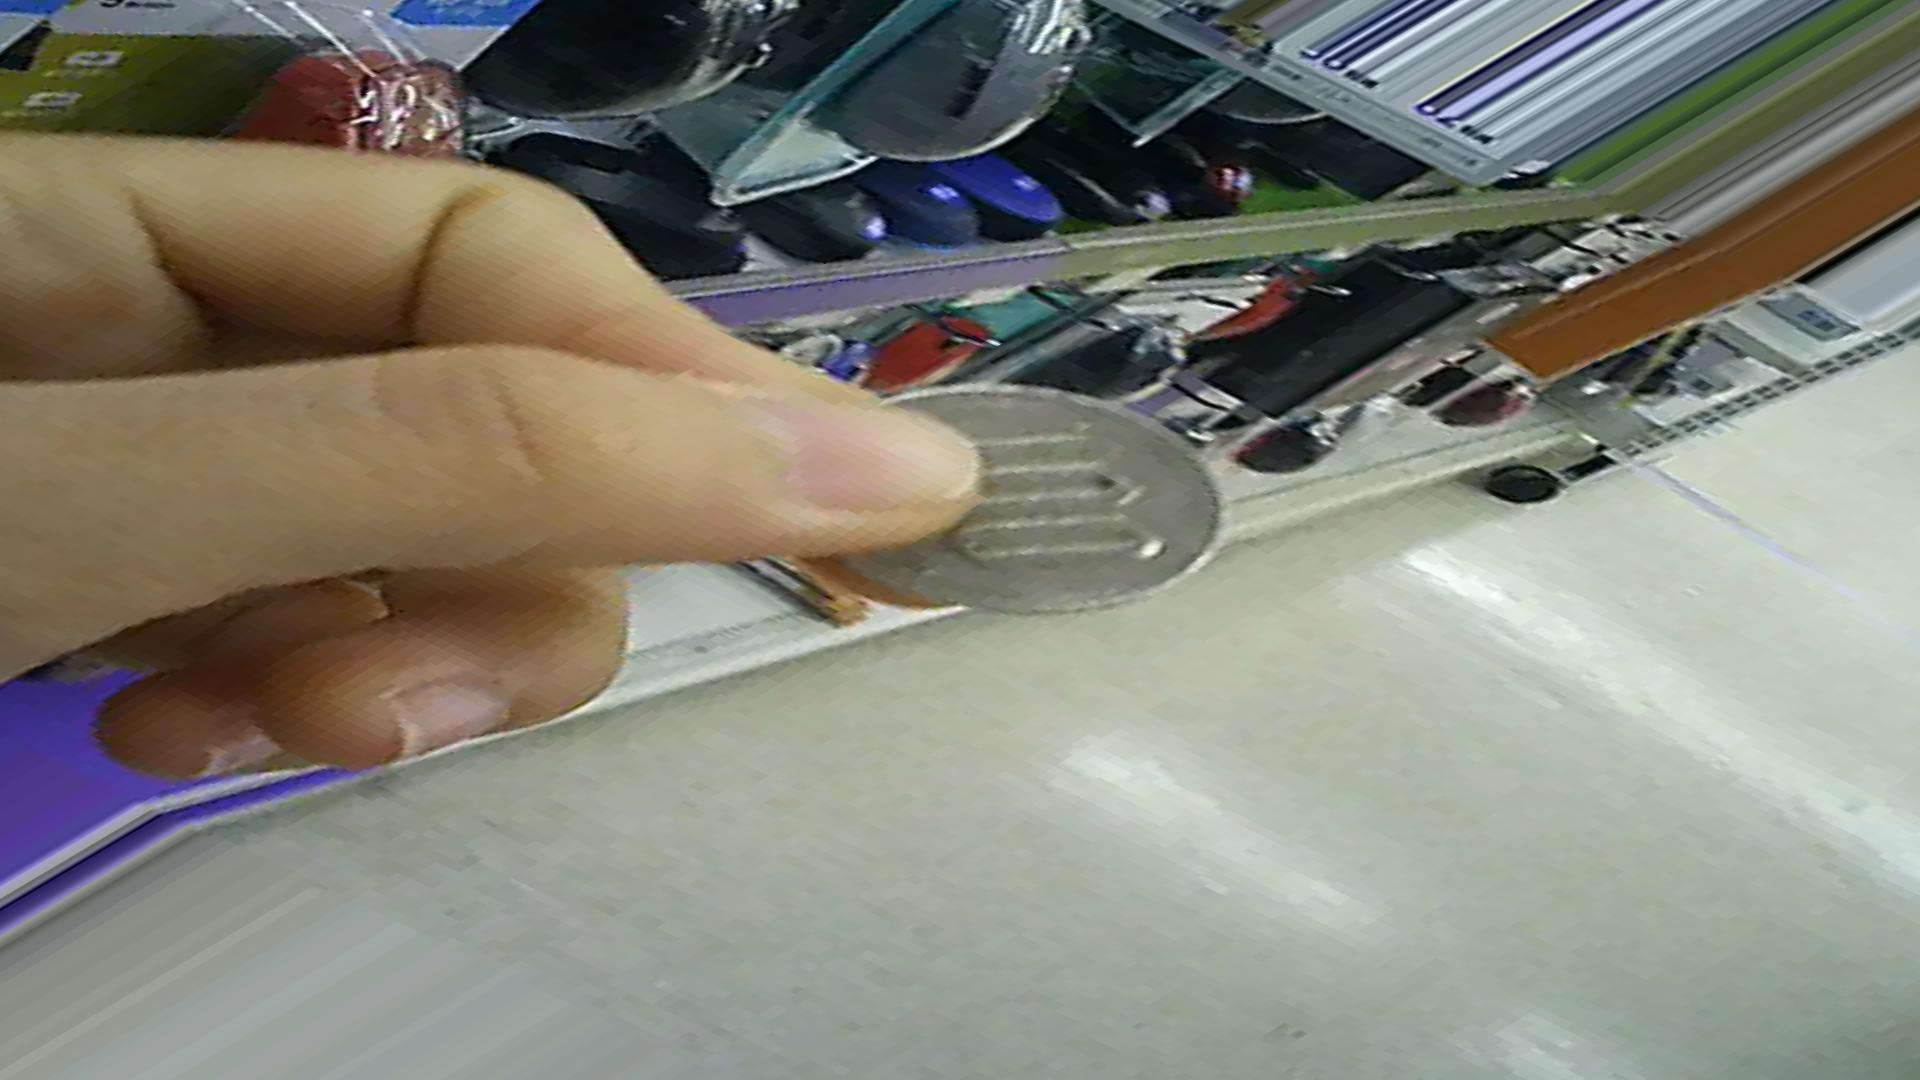100 Yen: (851, 369, 1232, 607)
